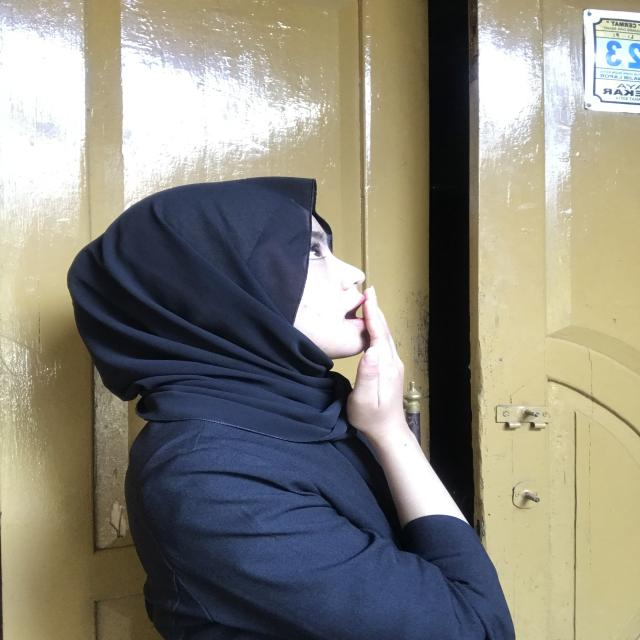ngantuk: (303, 255, 472, 479)
